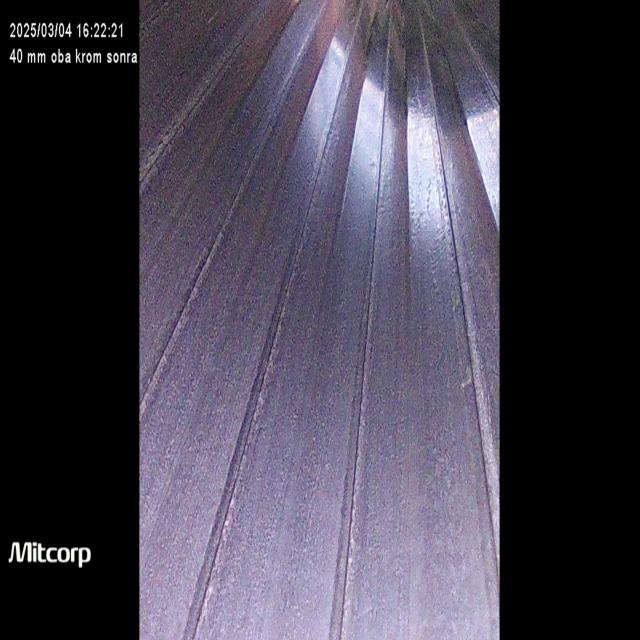hata_8.1: (179, 218, 319, 640)
